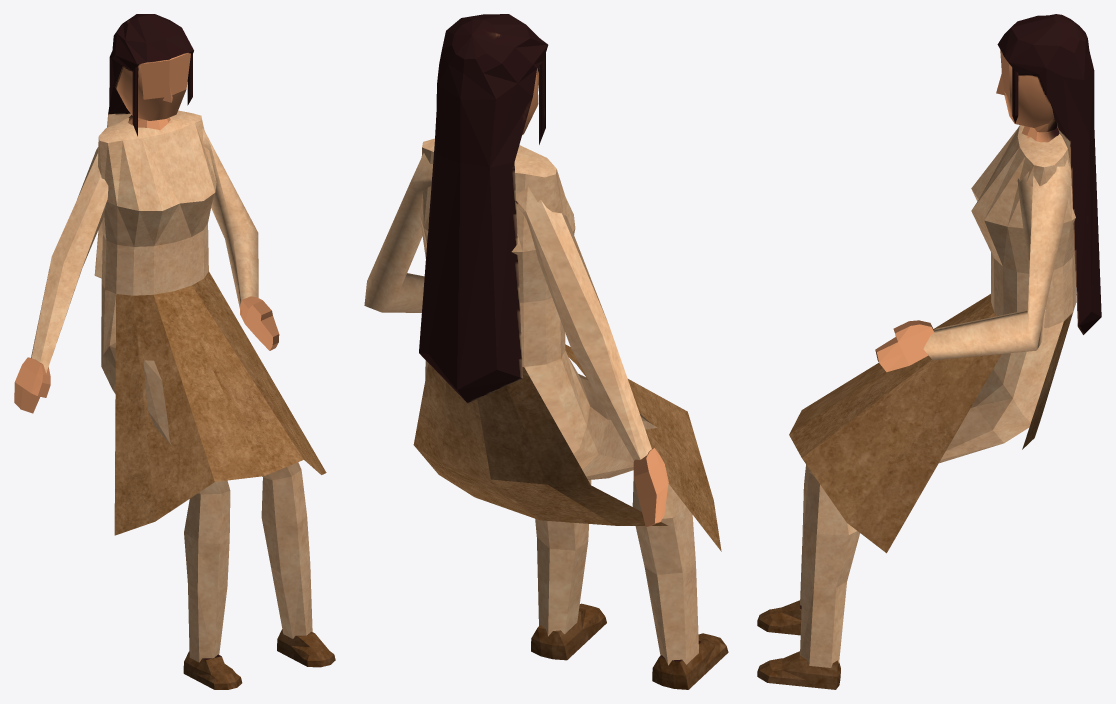
3 views of the same model, side by side, from view 1: azimuth 30°, elevation 25°; view 2: azimuth 150°, elevation 25°; view 3: azimuth 270°, elevation 25° (orthographic). The views are drawn at different scales.
Parts seen in each view (by area): view 1: Torso; view 2: Torso; view 3: Torso.
Boxes of the visible parts, x1=… form: Torso: x1=14, y1=14, x2=335, y2=689; Torso: x1=364, y1=14, x2=728, y2=689; Torso: x1=757, y1=14, x2=1101, y2=689.
Size of the model in its own units: 351 by 808 by 394.
Materials: 1 (1 with a texture image).
